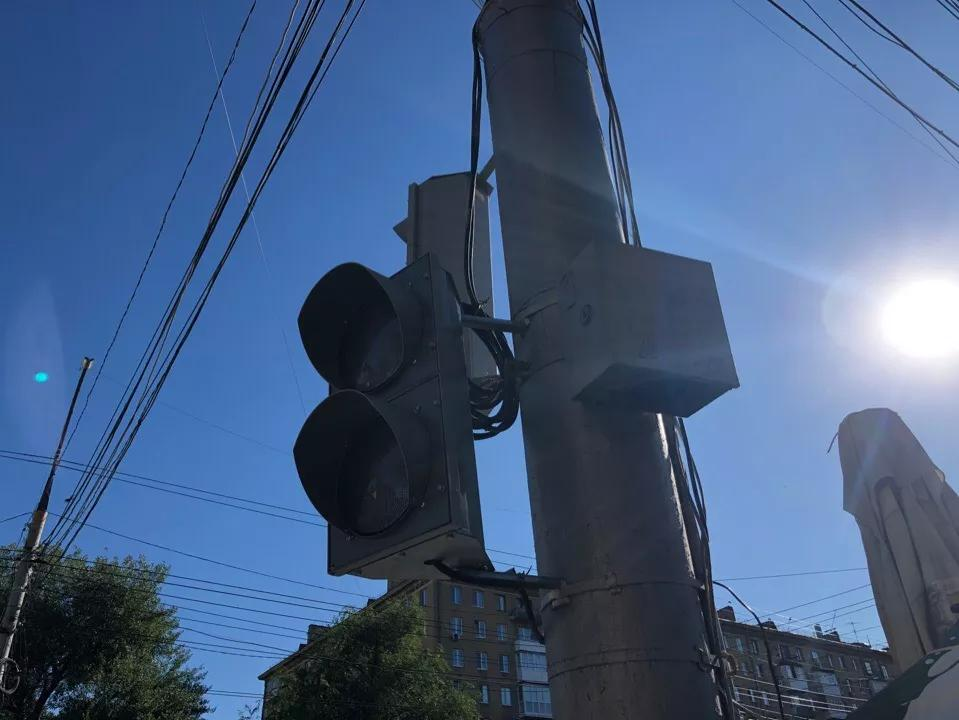off traffic light: (293, 256, 488, 579)
